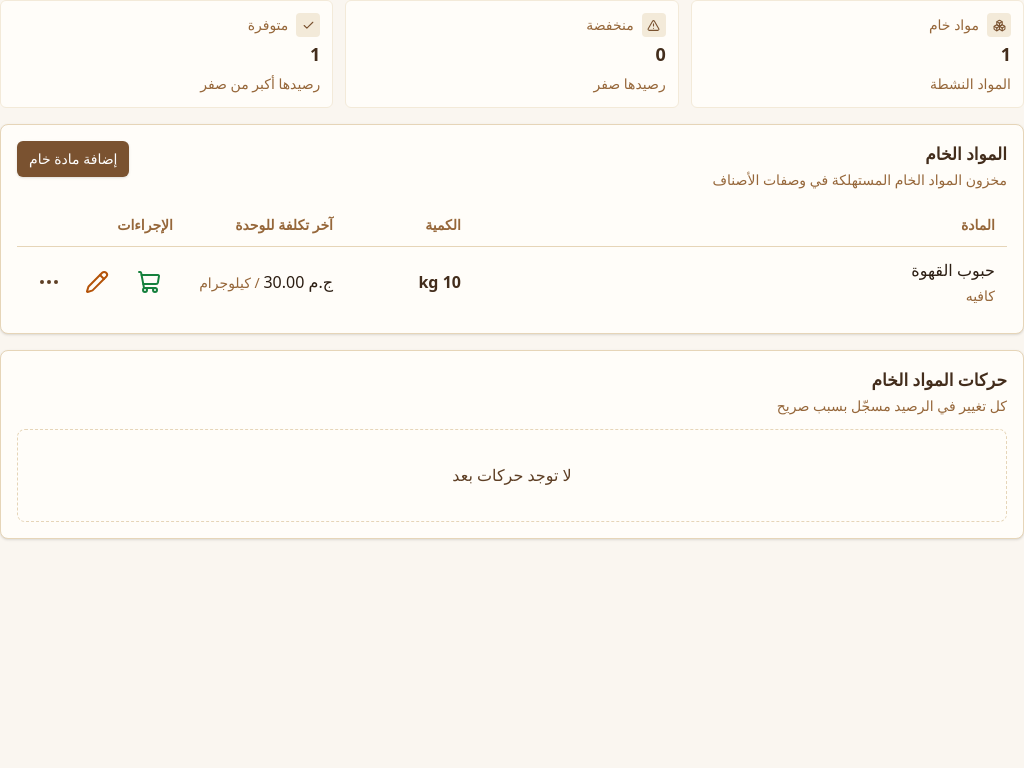
Scenario: Raw Materials — row actions match the Customers table › keeps Adjust, Waste and Archive behind the overflow menu
Check: the text "حبوب القهوة" is shown, box [911, 259, 995, 281]
Click the button named "المزيد من الإجراءات": {"x": 49, "y": 282} [29, 262, 69, 302]
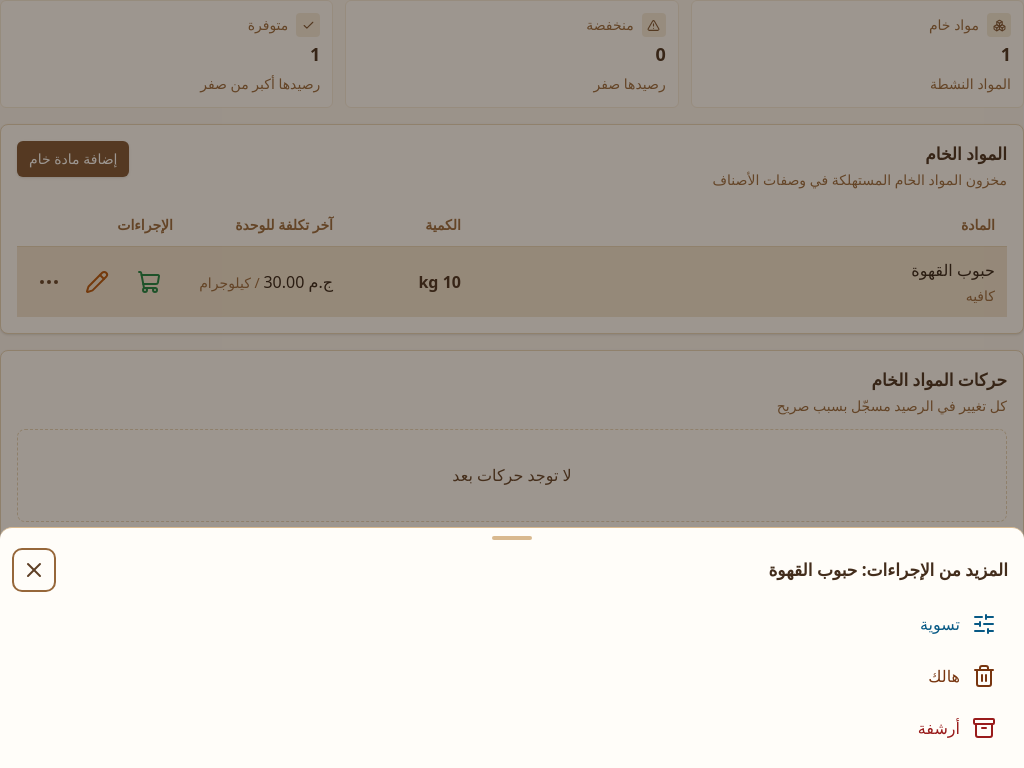
Check: the text "تسوية" is shown, box [920, 613, 960, 635]
Check: the text "هالك" is shown, box [928, 665, 960, 687]
Check: the text "أرشفة" is shown, box [918, 717, 960, 739]
